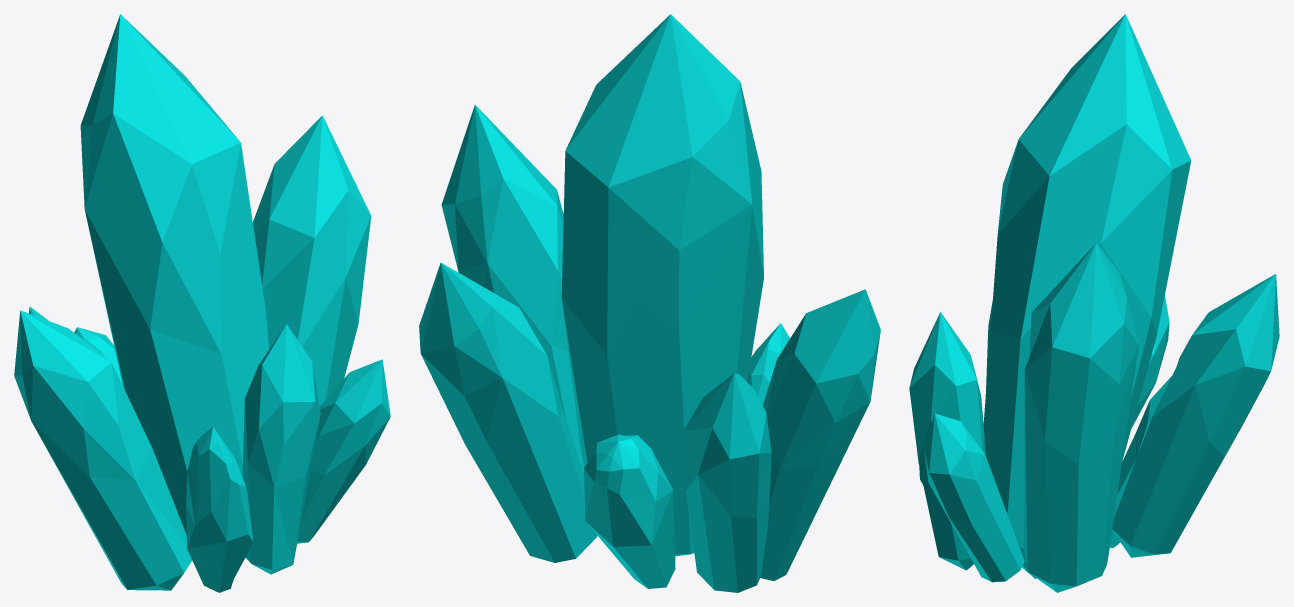
Rendered from Cristals_01.fbx.
The picture shows the model from 3 angles, left to right: view 1: azimuth 30°, elevation 25°; view 2: azimuth 150°, elevation 25°; view 3: azimuth 270°, elevation 25°; orthographic projection. The views are drawn at different scales.
Visible parts, largest first — view 1: Cristals_01; view 2: Cristals_01; view 3: Cristals_01.
Part boxes in pixels (box(x1,y1,x2,y2)): Cristals_01: box(14, 14, 390, 592); Cristals_01: box(419, 14, 880, 592); Cristals_01: box(909, 14, 1279, 592).
Bounding box in the file's own units: 50.24 × 71.6 × 44.65.
